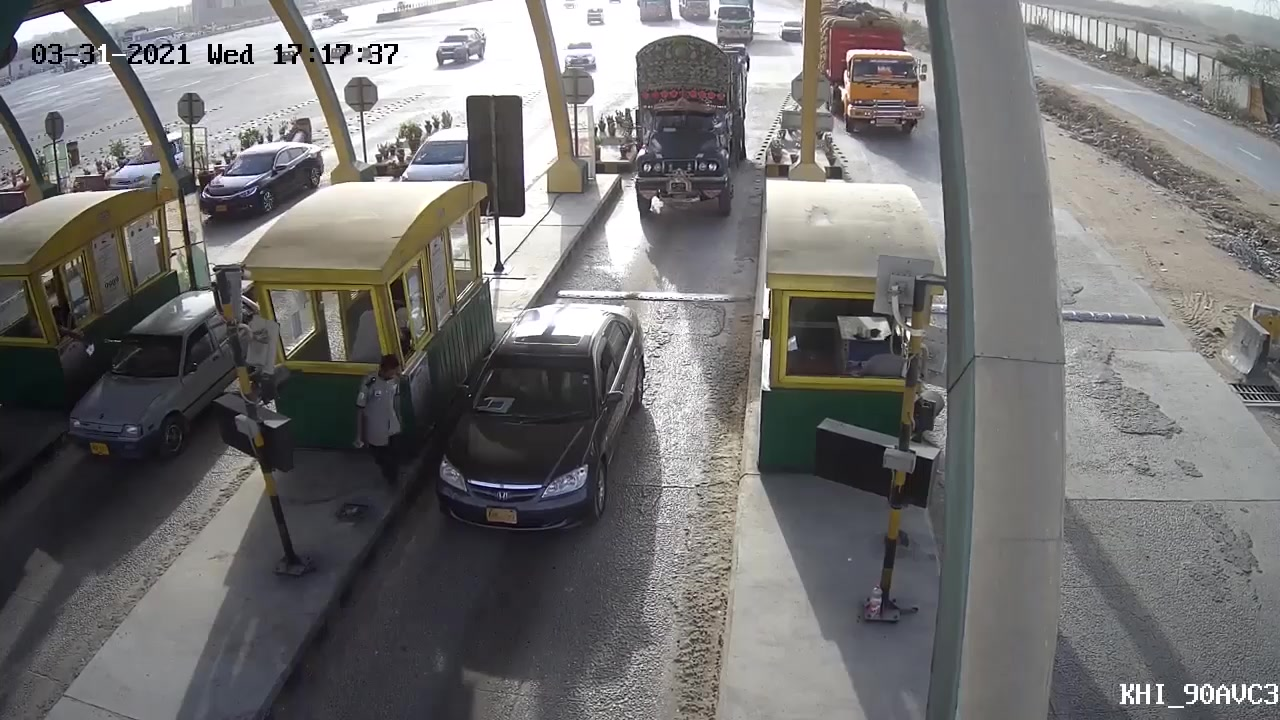F1: (411, 299, 647, 538)
F5: (620, 34, 754, 216)
